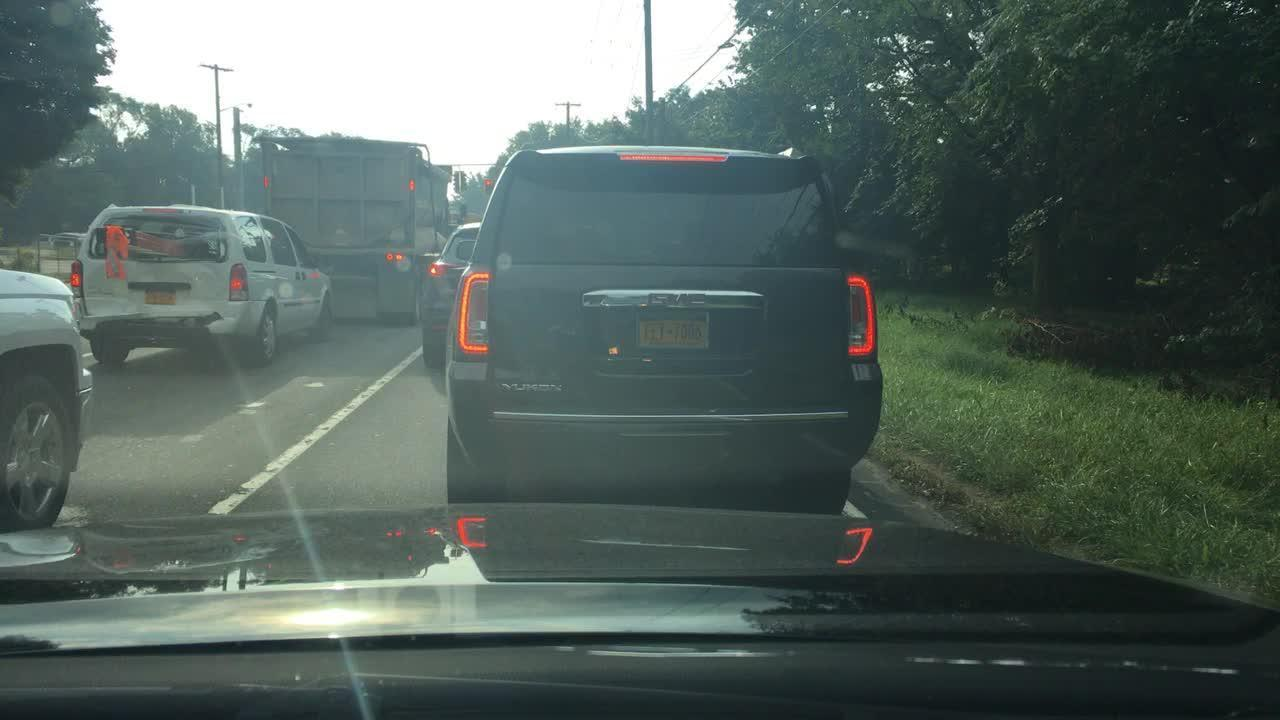GMC: (643, 287, 712, 316)
